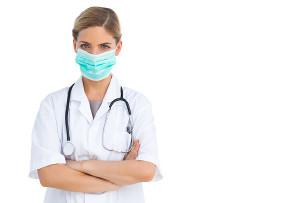OK: (74, 37, 118, 81)
